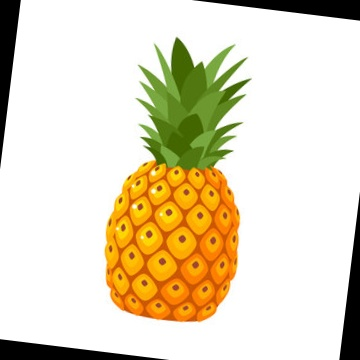Pineapple: (103, 35, 251, 328)
